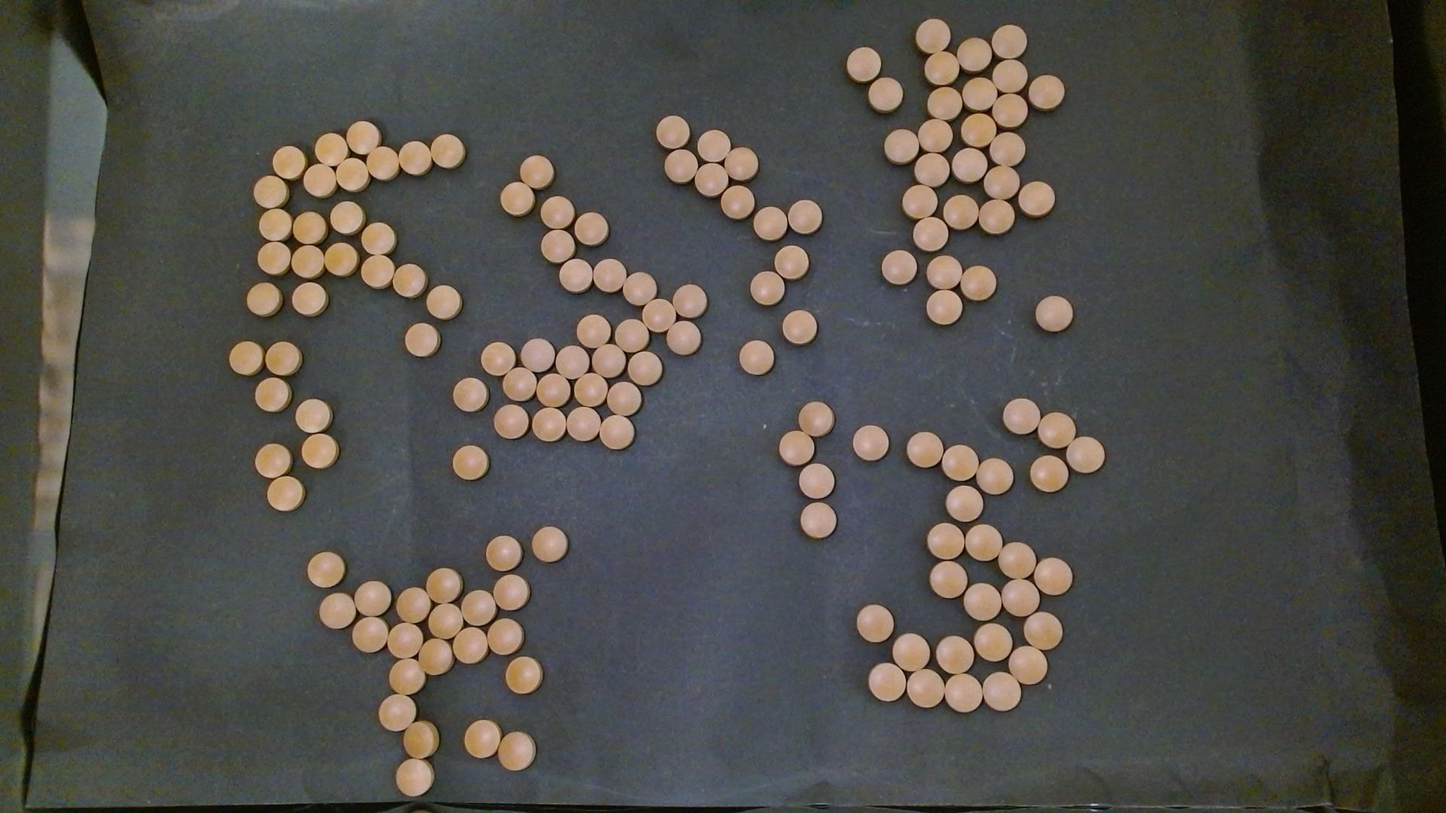Circle: (1033, 556, 1073, 596), (1033, 294, 1074, 333), (462, 718, 501, 759), (318, 591, 358, 630), (352, 579, 391, 619), (378, 693, 418, 732), (892, 632, 931, 672), (935, 634, 974, 674), (973, 622, 1013, 661), (1008, 646, 1048, 685), (962, 582, 1002, 621), (868, 662, 907, 702), (386, 657, 426, 696), (982, 671, 1021, 711), (1022, 611, 1063, 649), (497, 730, 535, 771), (856, 604, 895, 643), (1036, 410, 1075, 449), (1001, 397, 1040, 436), (929, 559, 968, 598), (944, 484, 984, 522), (998, 540, 1036, 580), (1001, 578, 1039, 618), (395, 758, 435, 796), (1066, 435, 1105, 473), (530, 525, 569, 563), (504, 656, 542, 695), (926, 522, 965, 560), (964, 523, 1002, 562), (907, 669, 945, 708), (944, 673, 981, 713), (1017, 180, 1055, 218), (941, 444, 979, 482), (1027, 72, 1065, 110), (386, 621, 424, 659), (800, 501, 837, 540), (300, 432, 339, 469), (1030, 455, 1068, 492), (485, 534, 523, 571), (905, 431, 942, 469), (307, 550, 345, 587), (977, 458, 1014, 496), (294, 397, 332, 434), (492, 573, 529, 611), (911, 215, 949, 252), (351, 616, 389, 653), (402, 720, 438, 759), (781, 309, 818, 346), (880, 248, 917, 285), (798, 400, 835, 437), (799, 463, 836, 500), (254, 442, 291, 479), (451, 376, 488, 413), (254, 376, 291, 413), (942, 193, 979, 230), (978, 198, 1015, 235), (883, 128, 920, 165), (245, 281, 282, 318), (428, 132, 465, 169), (395, 586, 432, 623), (991, 91, 1028, 128), (901, 184, 938, 221), (916, 117, 953, 154), (451, 444, 489, 480), (487, 618, 523, 656), (264, 340, 302, 376), (290, 280, 328, 316), (452, 626, 488, 664), (912, 151, 950, 187), (778, 430, 814, 467), (853, 424, 889, 461), (774, 243, 810, 280), (267, 476, 304, 512), (404, 321, 440, 358), (599, 414, 635, 451), (493, 403, 529, 440), (228, 339, 264, 376), (846, 46, 882, 83), (591, 257, 627, 294), (417, 638, 453, 675), (951, 146, 987, 183), (428, 602, 464, 639), (960, 111, 996, 148), (990, 23, 1027, 59), (914, 17, 950, 54), (991, 57, 1027, 94), (989, 130, 1026, 166), (749, 270, 785, 306), (960, 265, 996, 301), (926, 289, 962, 325), (926, 254, 962, 290), (479, 340, 515, 376), (426, 568, 462, 604), (460, 590, 496, 626), (923, 50, 959, 86), (329, 199, 365, 235), (252, 174, 288, 210), (291, 209, 327, 245), (738, 340, 775, 375), (787, 198, 822, 235), (558, 257, 593, 294), (520, 336, 555, 373), (956, 36, 991, 73), (719, 184, 754, 220), (426, 285, 461, 321), (672, 283, 708, 318), (392, 262, 427, 298), (627, 350, 662, 386), (575, 312, 610, 348), (983, 164, 1019, 199), (256, 240, 291, 276), (270, 145, 306, 180), (258, 206, 293, 242), (574, 212, 609, 247), (499, 181, 534, 216), (520, 153, 555, 188), (654, 114, 689, 149), (540, 229, 575, 264), (540, 194, 575, 229), (665, 320, 700, 355), (502, 367, 537, 402), (360, 254, 395, 289), (614, 318, 649, 353), (641, 297, 676, 332), (397, 140, 432, 175), (334, 157, 369, 192), (290, 243, 325, 278), (555, 345, 590, 380), (868, 76, 902, 112), (591, 343, 627, 377), (753, 206, 787, 241), (532, 407, 566, 442), (573, 372, 607, 407), (566, 406, 600, 441), (694, 162, 728, 197), (324, 241, 358, 276), (607, 380, 641, 415), (360, 221, 395, 255), (697, 128, 731, 163), (346, 120, 380, 155), (962, 76, 996, 111), (314, 131, 348, 166), (926, 86, 961, 120), (664, 148, 697, 184), (535, 373, 569, 407), (623, 272, 656, 307), (725, 147, 758, 181), (303, 163, 336, 197), (365, 145, 397, 180)
